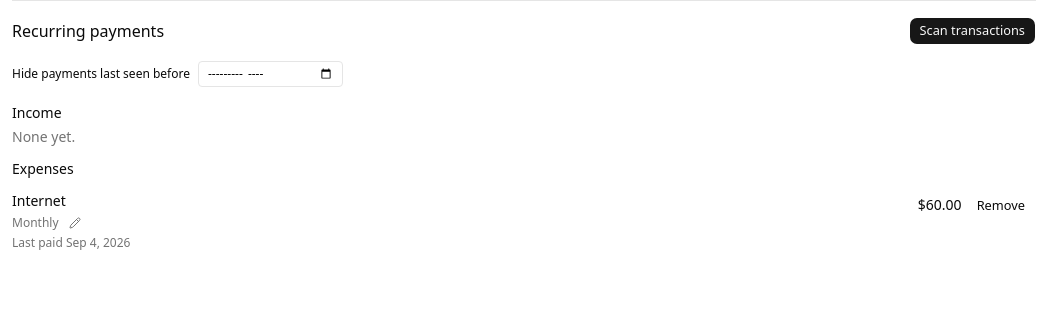
Test: does not promise unchanged server data after a failed scan
This screenshot has width=1048, height=331.
Check: the text "Internet" is shown, box left=12, top=191, right=66, bottom=210
Click the button "Scan transactions" at (972, 31), box left=908, top=17, right=1036, bottom=45
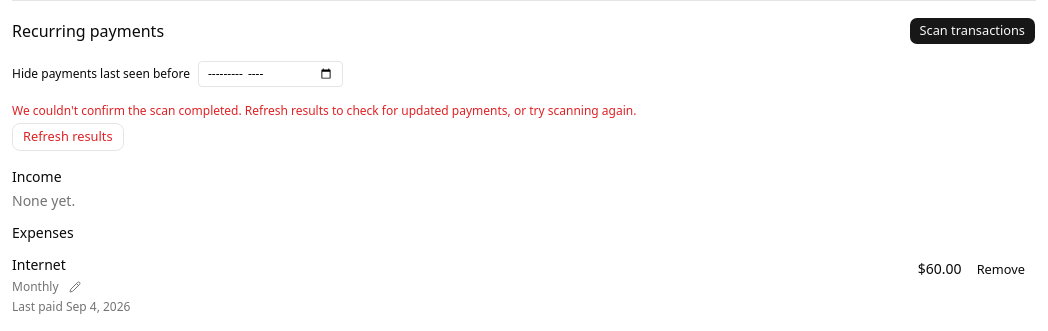
Check: the message does not show "saved rules are unchanged", box left=12, top=102, right=636, bottom=151
Check: the message shows "couldn't confirm", box left=12, top=102, right=636, bottom=119
